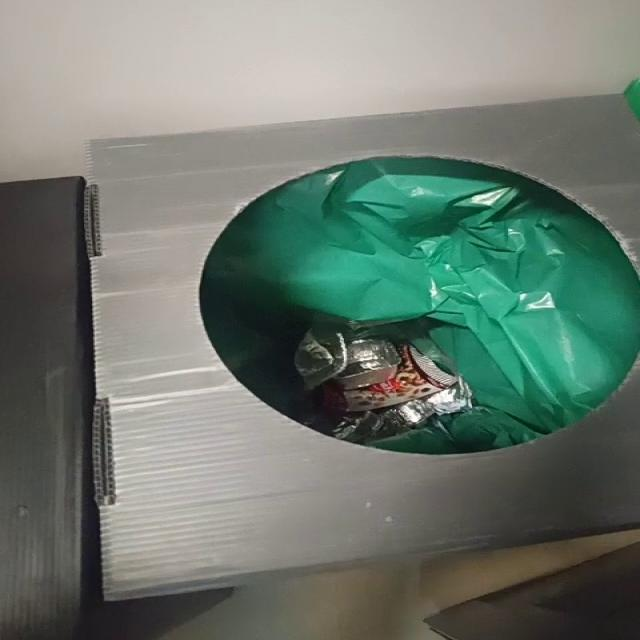Metal: (336, 339, 401, 390)
